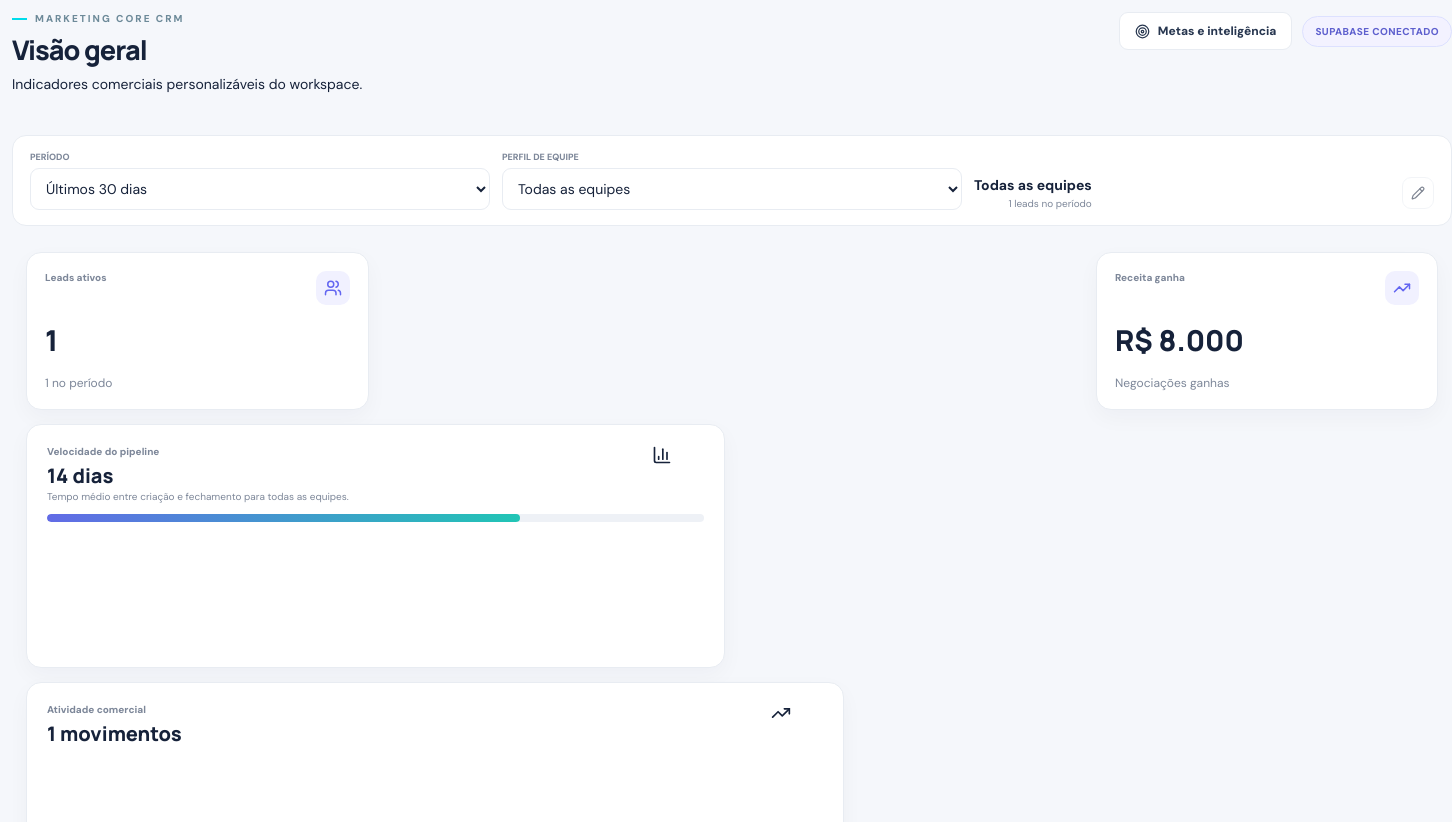
Test: DashboardPage › segments the dashboard by custom team and shows velocity and goal progress
Select "Período personalizado" in the dropdown named "Período da visão geral": {"x": 260, "y": 189} [30,168,490,210]
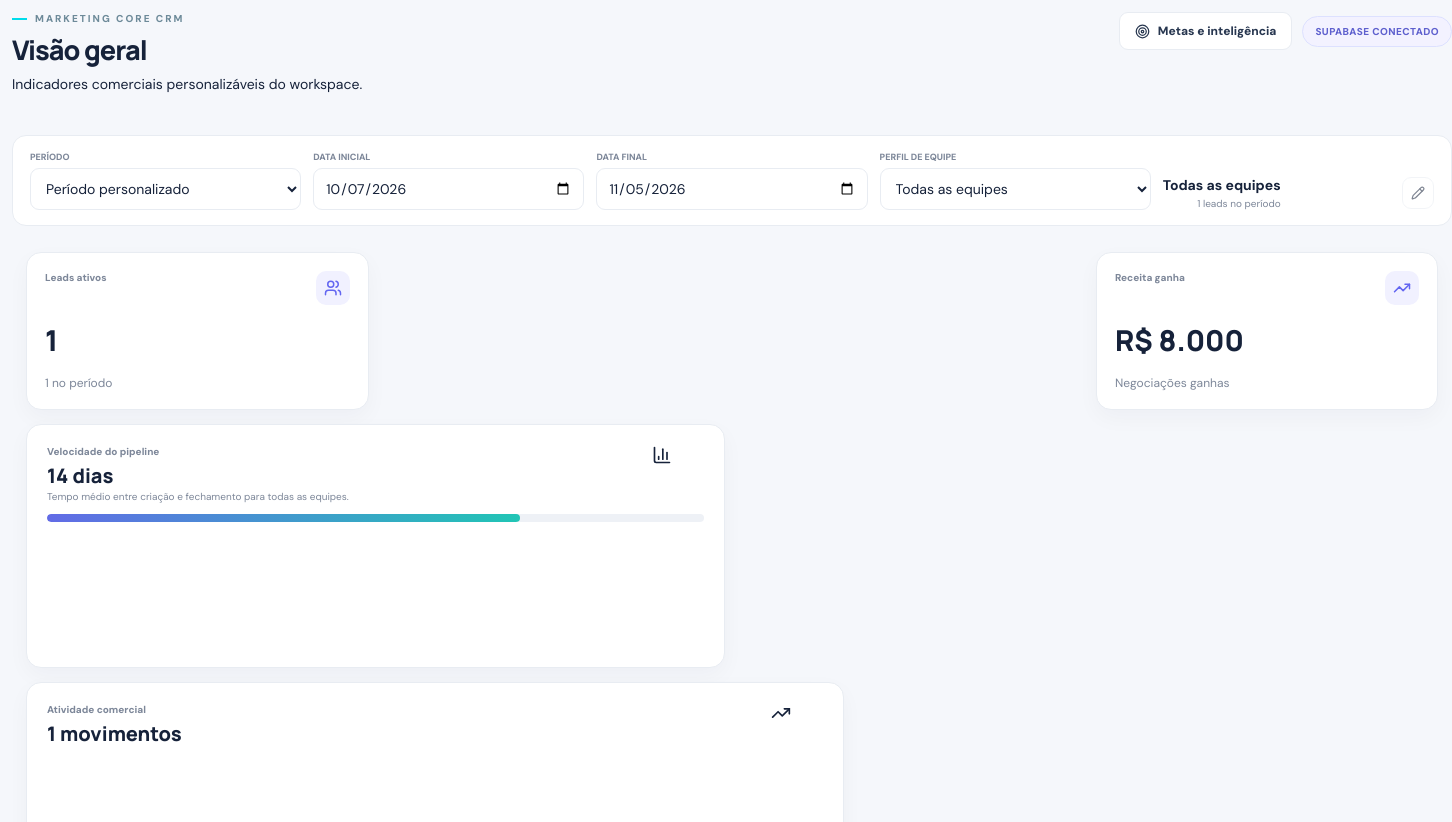
In the date field labelled "Data inicial": {"x": 449, "y": 189} [313,168,584,210], type "2026-10-01"
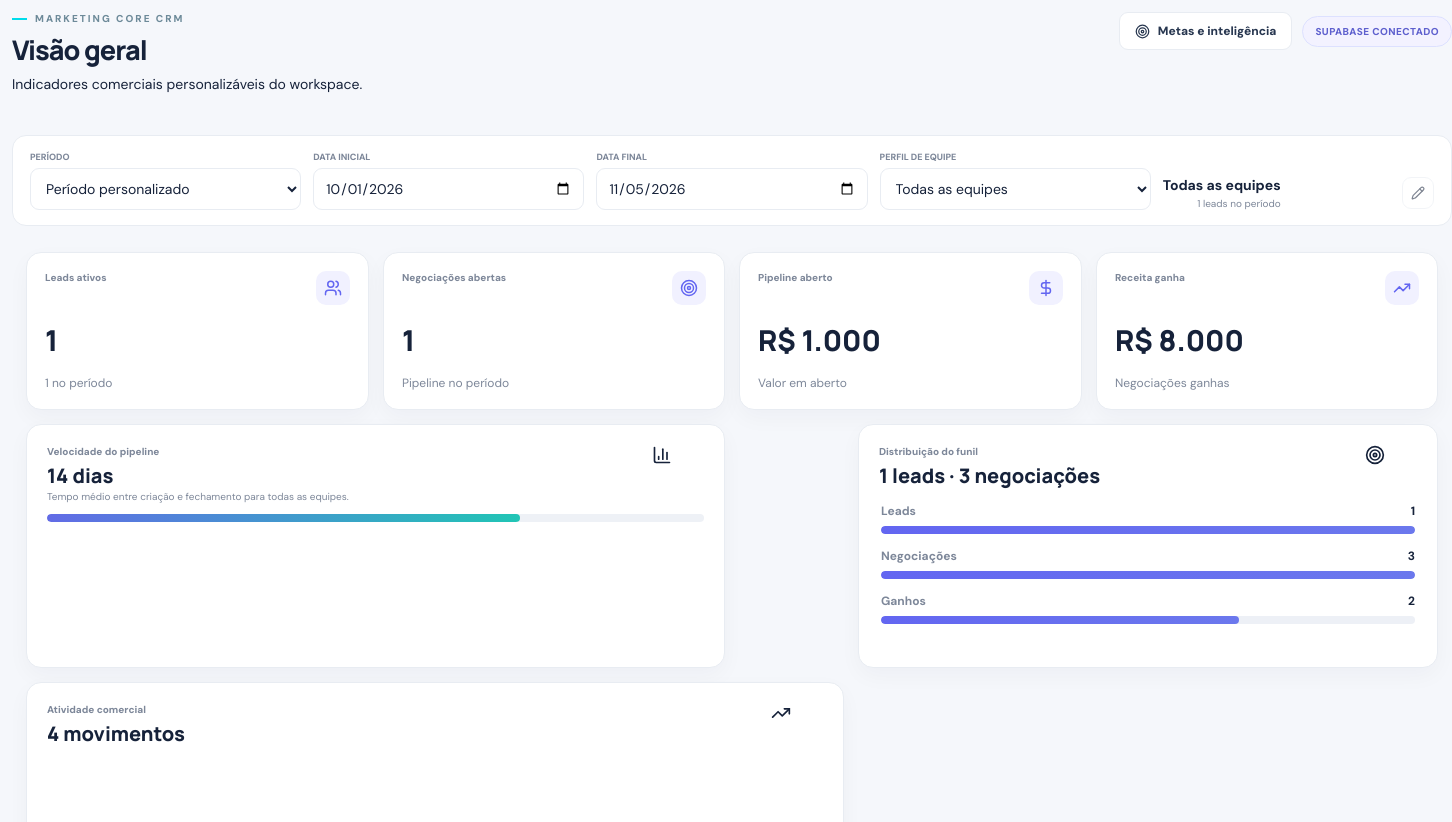
In the date field labelled "Data final": {"x": 732, "y": 189} [596,168,868,210], type "2026-10-31"
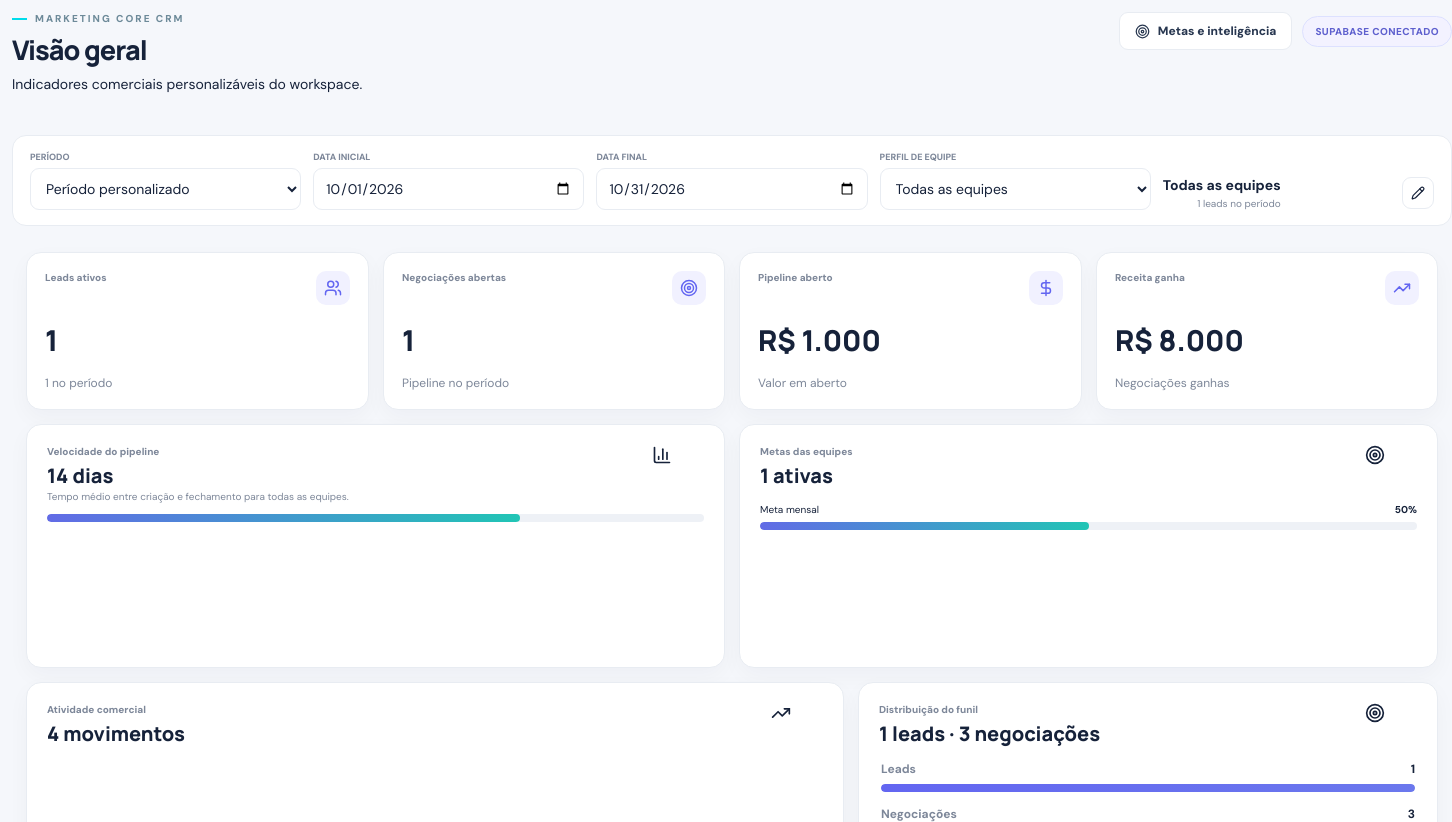
Select "Equipe Closers" in the dropdown labelled "Perfil de equipe": {"x": 1015, "y": 189} [880,168,1151,210]
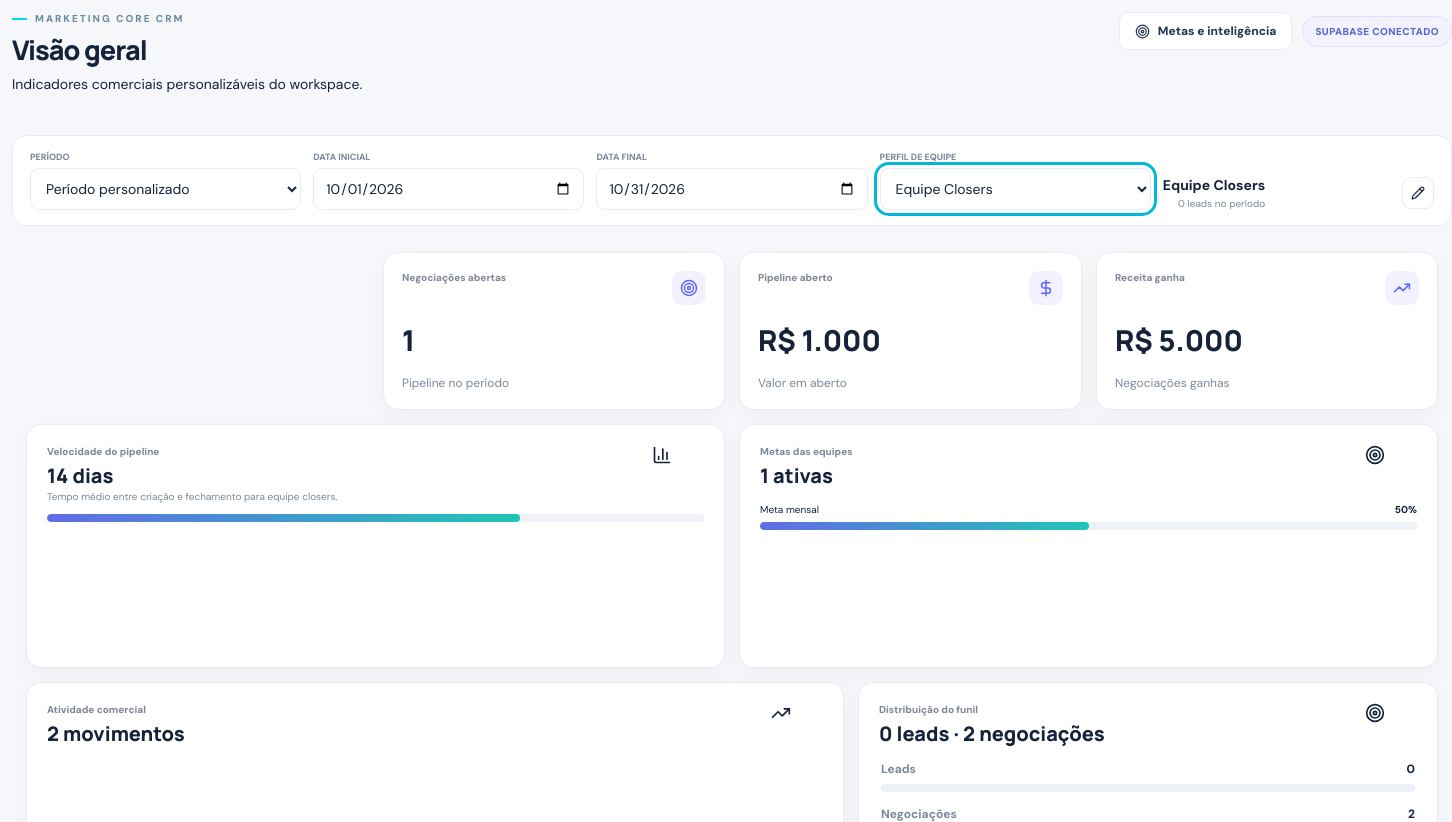
Expected: the text "14 dias" is shown, [47,462,113,489]
Now the button with test id "metric-revenue" shows "R$ 5.000", box [1097,253,1437,409]
